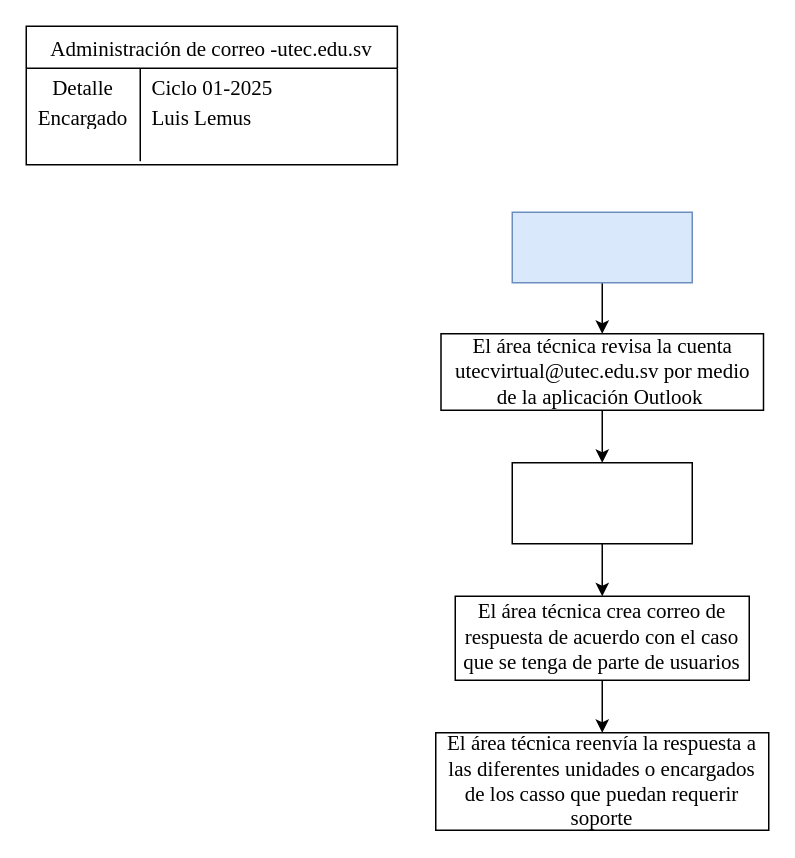
Some shapes in this 795 by 858 pixel diagram are drawn without their labels. The centre of each missing label's shape, as x and y in pixels:
"Administración de correo" goes at point (601, 247).
"El área técnica revisa correos para dar respuesta a estos" goes at point (601, 502).
